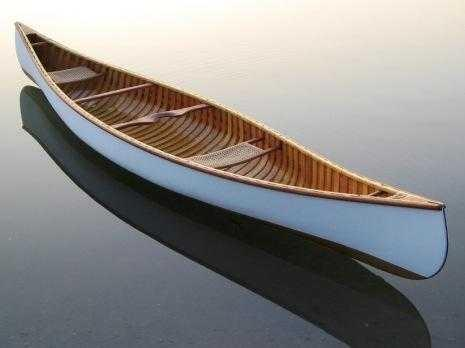kayak: (9, 21, 449, 328)
